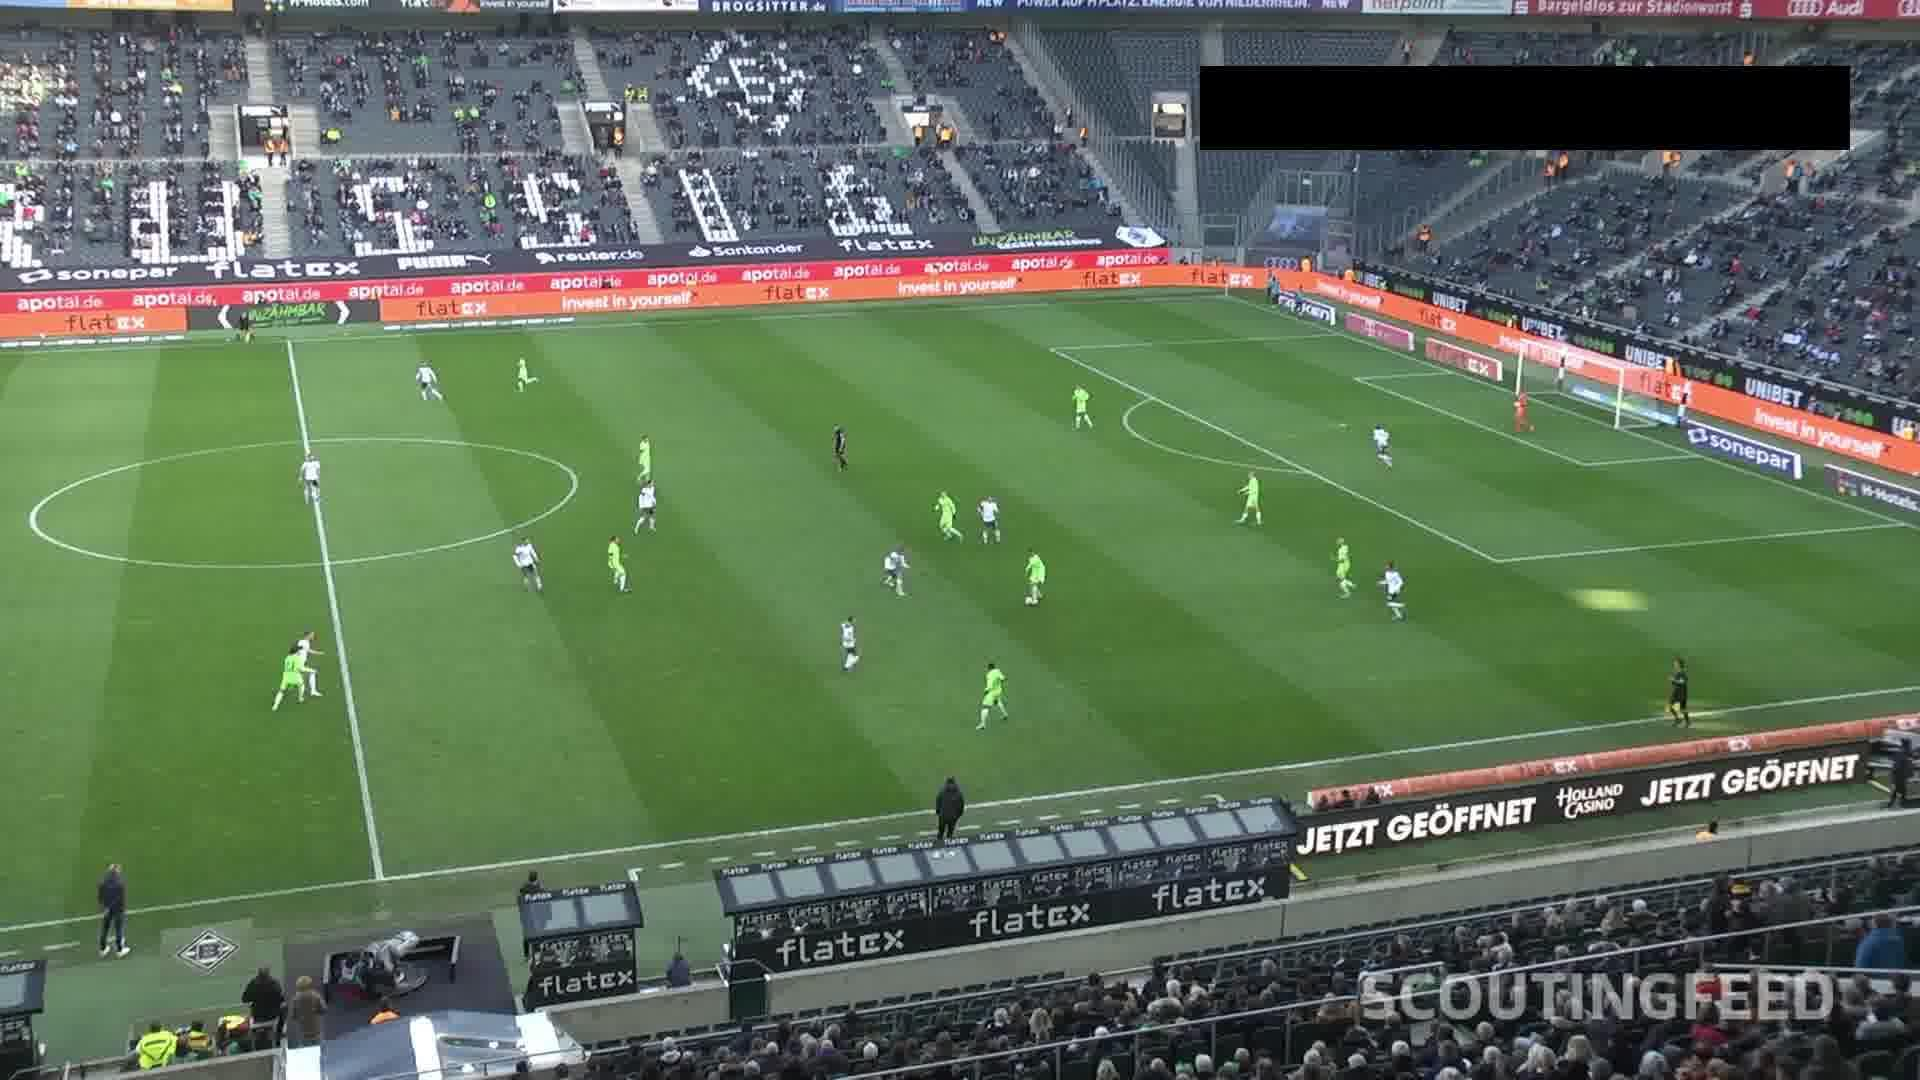football: (1023, 596, 1033, 605)
